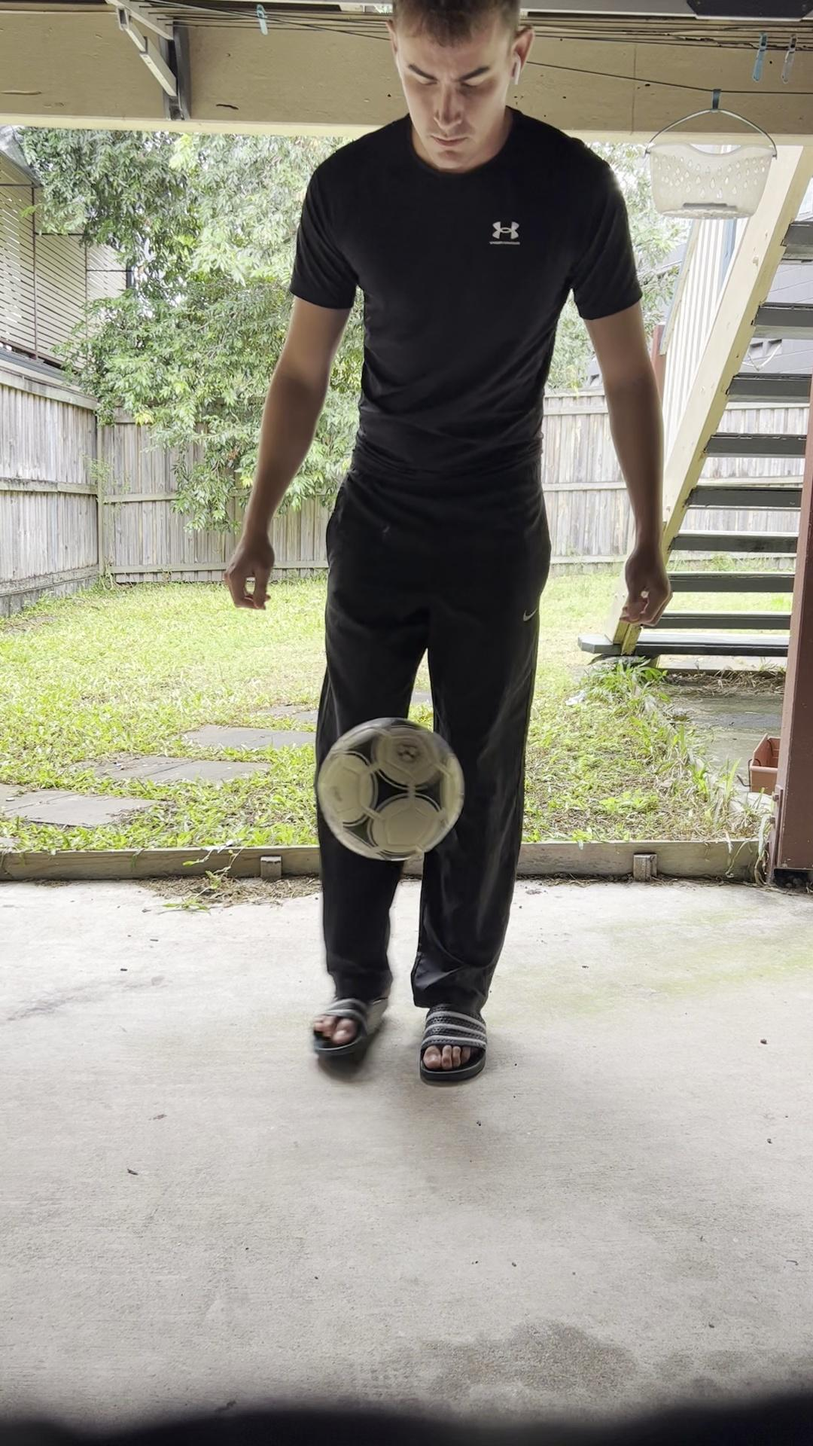ball: (317, 715, 462, 866)
foot: (418, 1005, 486, 1088), (309, 988, 382, 1059)
person: (227, 0, 677, 1089)
